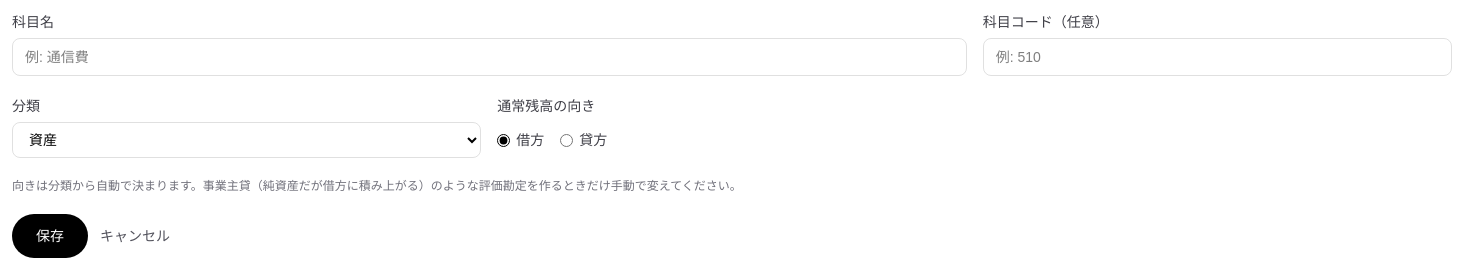
Test: AccountForm › 手動で上書きした後でも、分類を変え直すと既定に戻る
Select "純資産" in the dropdown labelled "分類" at (247, 140), box [12, 122, 481, 158]
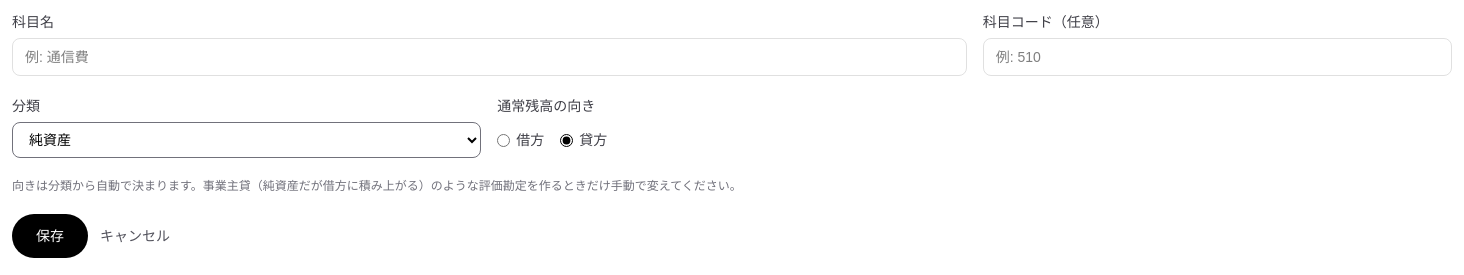
Click the radio button labelled "借方".
click(504, 140)  # box [497, 134, 510, 146]
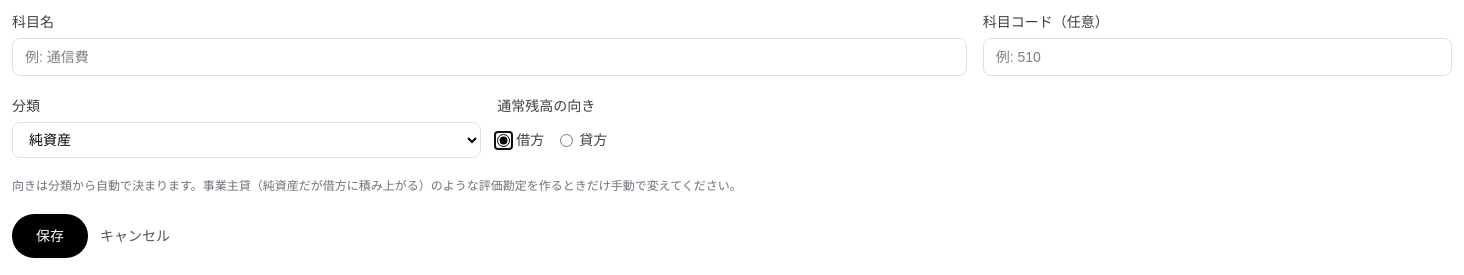
Select "負債" in the dropdown labelled "分類" at (247, 140), box [12, 122, 481, 158]
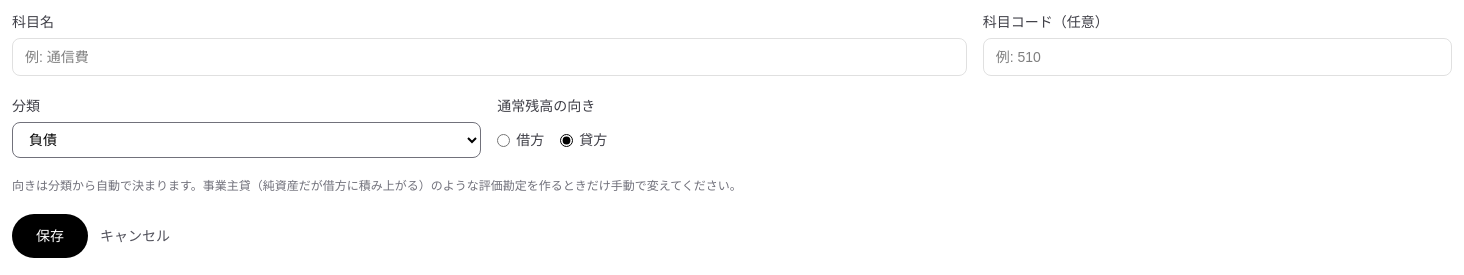
Result: the radio button labelled "貸方" is checked at [560, 134, 573, 146]
